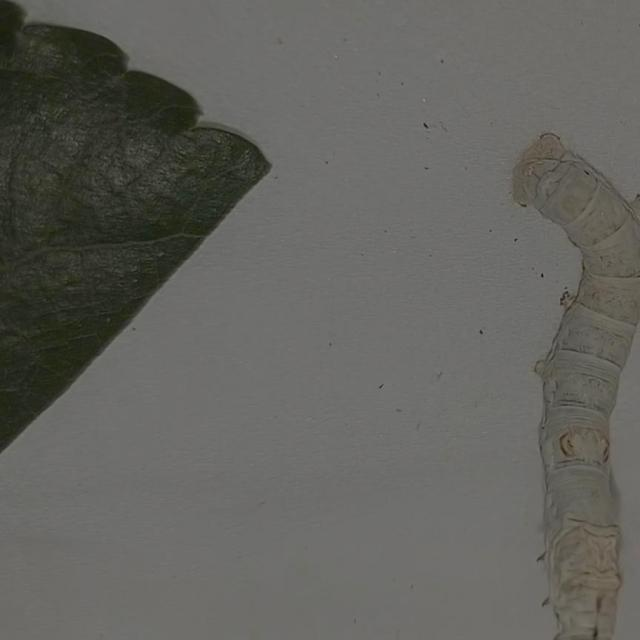Healthy: (468, 95, 640, 640)
